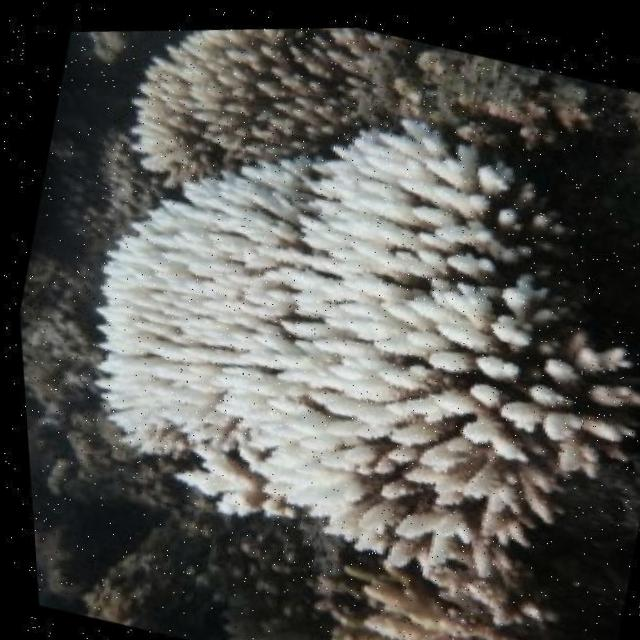Bleached Coral: (13, 6, 640, 617)
